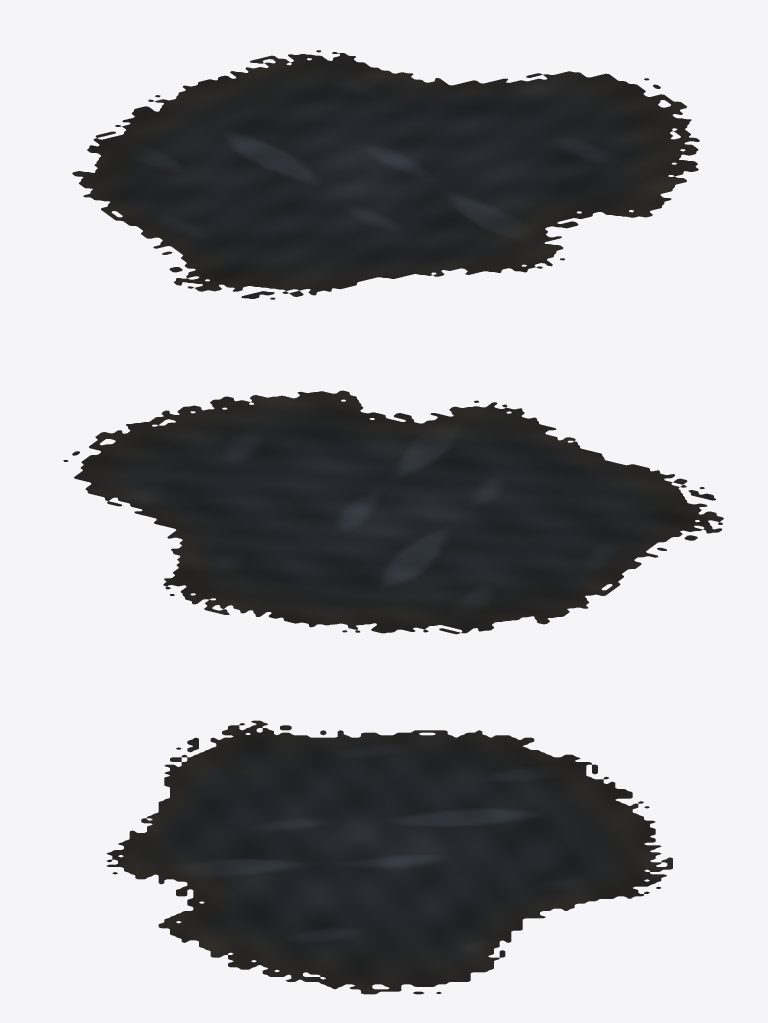
File: decal_puddle_02.glb
3 views of the same model, one above another, from view 1: azimuth 30°, elevation 25°; view 2: azimuth 150°, elevation 25°; view 3: azimuth 270°, elevation 25° (orthographic).
Parts seen in each view (by area): view 1: decal_puddle_02; view 2: decal_puddle_02; view 3: decal_puddle_02.
Boxes of the visible parts, bbox=[...] form: decal_puddle_02: bbox=[72, 50, 699, 299]; decal_puddle_02: bbox=[63, 390, 723, 634]; decal_puddle_02: bbox=[106, 720, 672, 994].
Bounding box in the file's own units: 1 × 0 × 1.
1 material, 1 textured.
